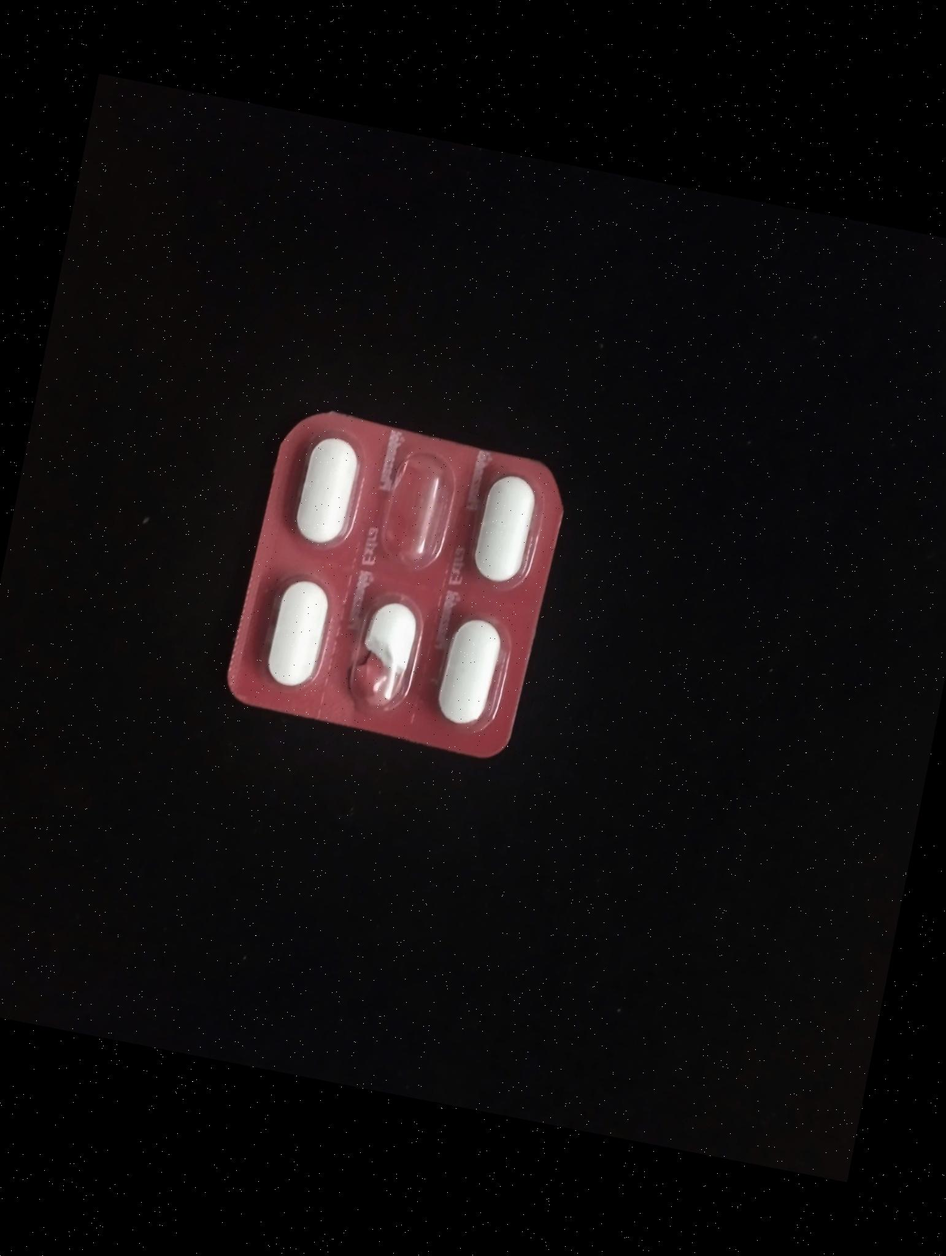Empty: (372, 439, 464, 576)
Full: (244, 561, 339, 704), (456, 460, 548, 600), (420, 604, 512, 740), (280, 423, 367, 553)
Partial: (343, 584, 429, 729)
